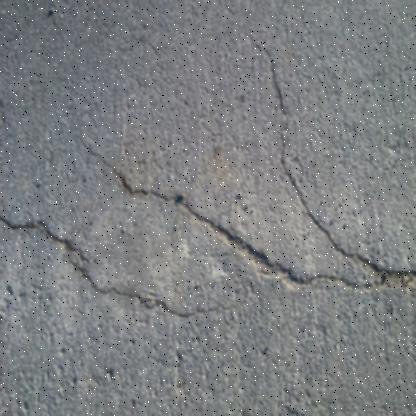Cracks: (89, 150, 416, 301), (255, 44, 416, 289), (0, 207, 236, 325)
